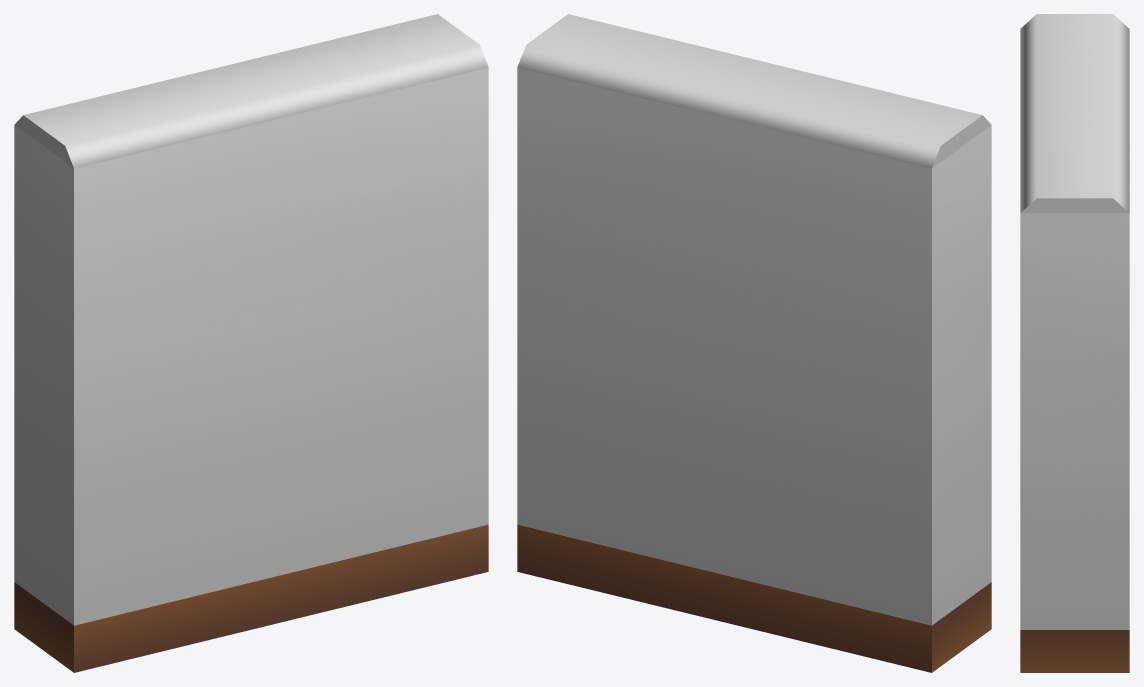
The model's file is mesh_wallClosed.FBX.
3 renders of one model, left to right at view 1: azimuth 30°, elevation 25°; view 2: azimuth 150°, elevation 25°; view 3: azimuth 270°, elevation 25°, orthographic. The views are drawn at different scales.
Parts seen in each view (by area): view 1: mesh_wallClose; view 2: mesh_wallClose; view 3: mesh_wallClose.
Boxes of the visible parts, x1,y1,x2,y2 form: mesh_wallClose: (14,14,488,672); mesh_wallClose: (517,14,991,672); mesh_wallClose: (1020,14,1129,672).
Size of the model in its own units: 2 by 2.4 by 0.5.
1 material, 1 textured.
